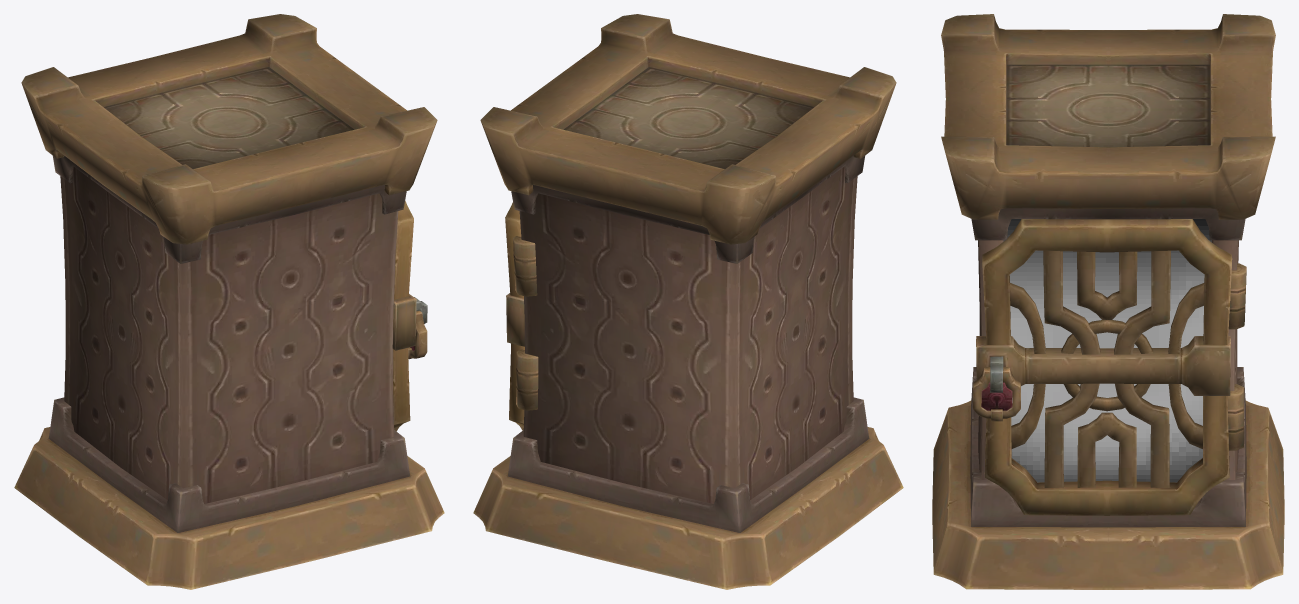
3 views of the same model, side by side, from view 1: azimuth 30°, elevation 25°; view 2: azimuth 150°, elevation 25°; view 3: azimuth 270°, elevation 25° (orthographic). The views are drawn at different scales.
Bounding box in the file's own units: 6.97 × 8.89 × 6.67.
2 materials, 2 textured.
